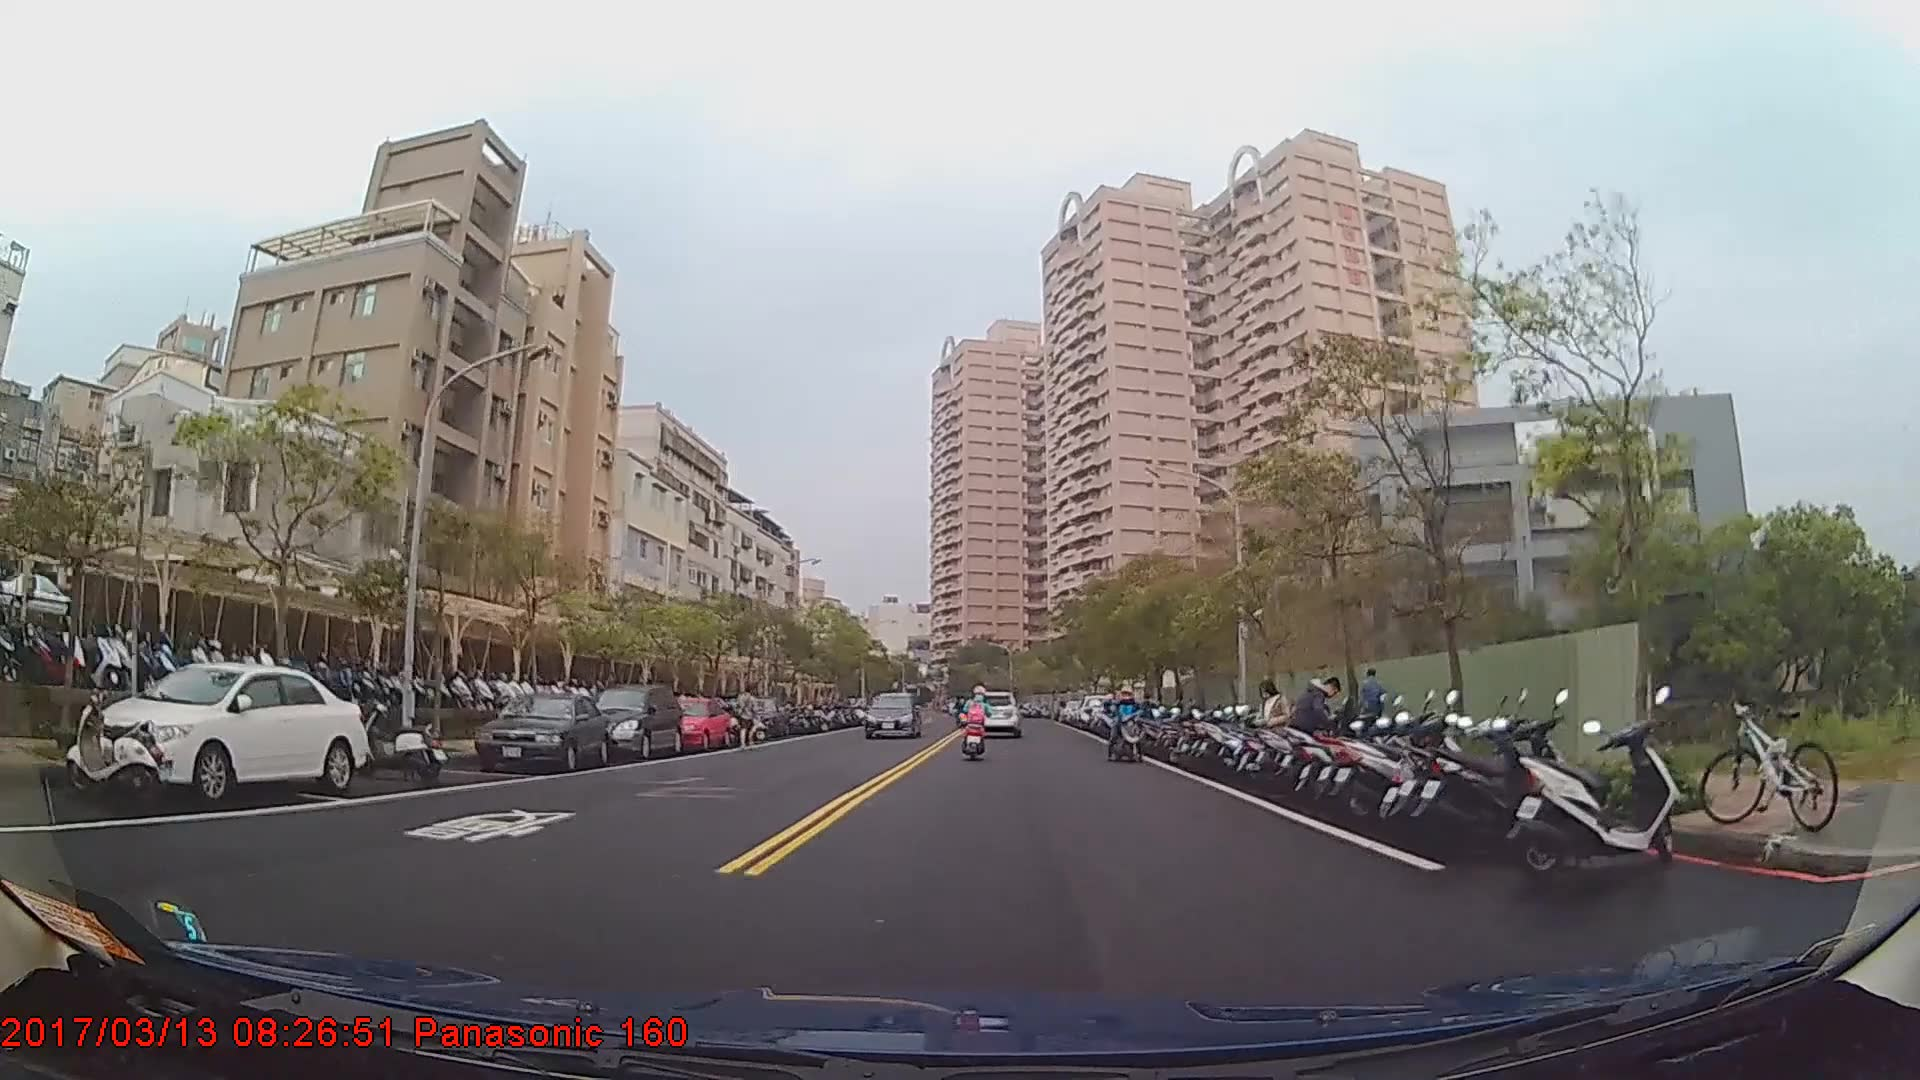pedestrian: (1289, 675, 1347, 794), (1250, 679, 1296, 796), (1358, 669, 1389, 749), (733, 688, 764, 752)
rider: (1107, 685, 1147, 765), (961, 685, 992, 756)
vehicle: (86, 660, 368, 806), (471, 690, 612, 773), (588, 683, 684, 757), (651, 693, 733, 749), (864, 688, 921, 738), (966, 689, 1020, 735)
